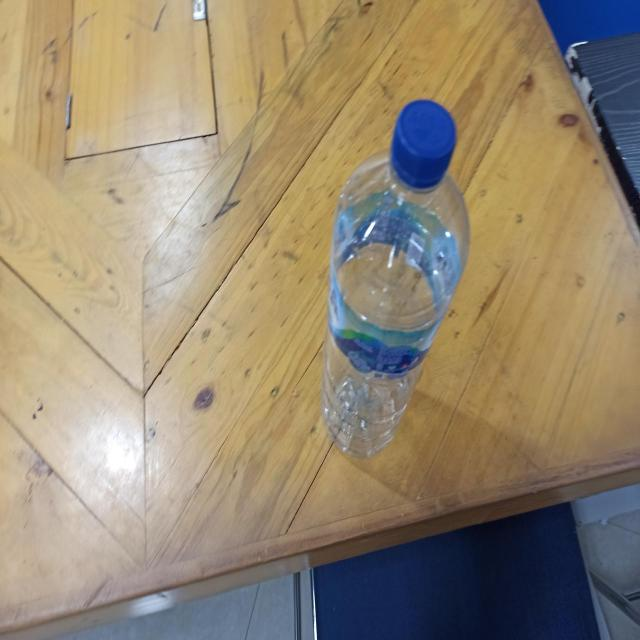BotolPlastik: (319, 97, 471, 458)
